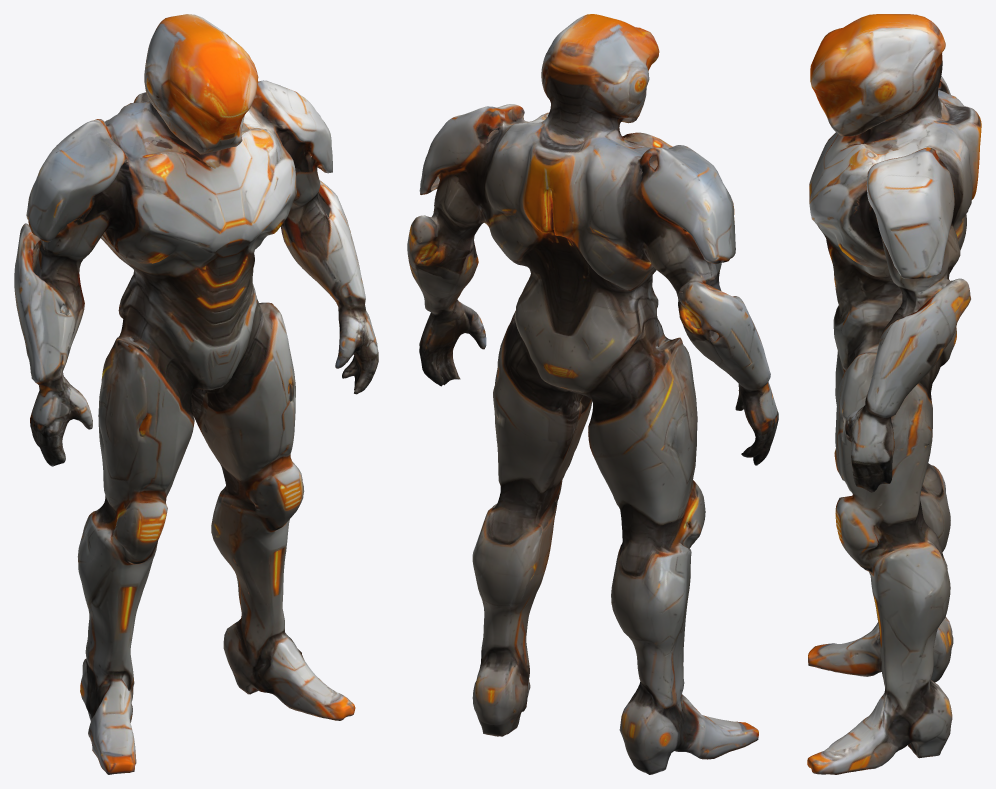
File: player.glb
The picture shows the model from 3 angles, left to right: view 1: azimuth 30°, elevation 25°; view 2: azimuth 150°, elevation 25°; view 3: azimuth 270°, elevation 25°; orthographic projection. The views are drawn at different scales.
Bounding box in the file's own units: 1.02 × 2 × 0.4539.
1 material, 1 textured.
